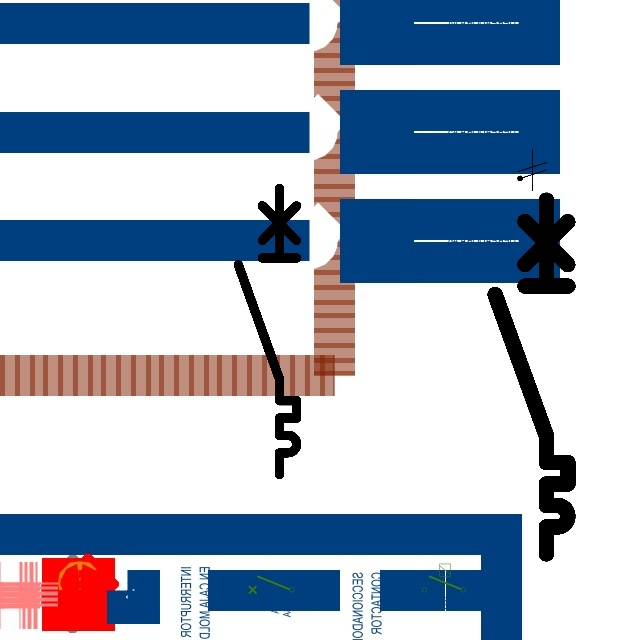interruptor_termomagnetico: (486, 191, 577, 563), (231, 181, 304, 482)
